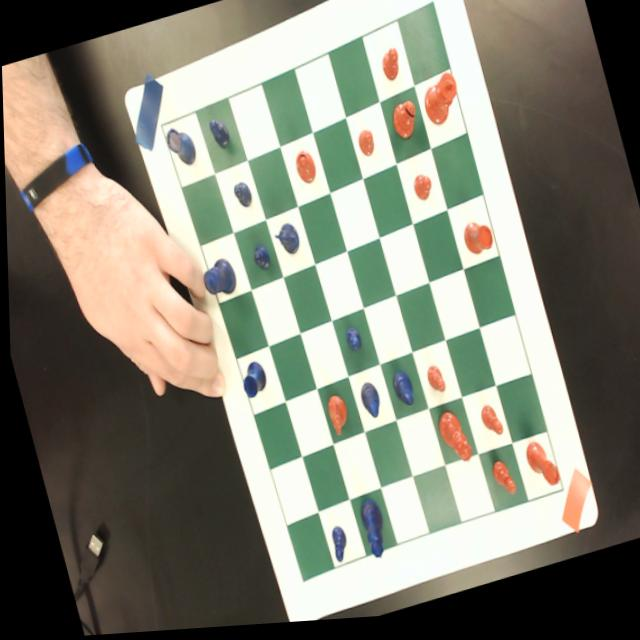B: (386, 372, 415, 415), (354, 384, 382, 426)
K: (197, 258, 238, 304)
N: (271, 224, 300, 262)
P: (324, 527, 349, 570), (206, 117, 231, 155), (229, 182, 253, 214), (248, 245, 271, 277), (342, 329, 361, 358)
Q: (353, 500, 389, 567)
R: (162, 124, 199, 173), (235, 361, 268, 404)
b: (387, 102, 422, 148), (291, 152, 317, 191)
k: (417, 75, 464, 135)
n: (322, 395, 350, 441)
p: (485, 462, 514, 507), (377, 51, 404, 89), (476, 408, 501, 447), (354, 131, 377, 164), (422, 368, 444, 402), (410, 179, 434, 209)
q: (432, 410, 472, 474)
r: (519, 443, 559, 498), (459, 224, 494, 263)
